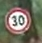limite 30: (4, 6, 32, 34)
